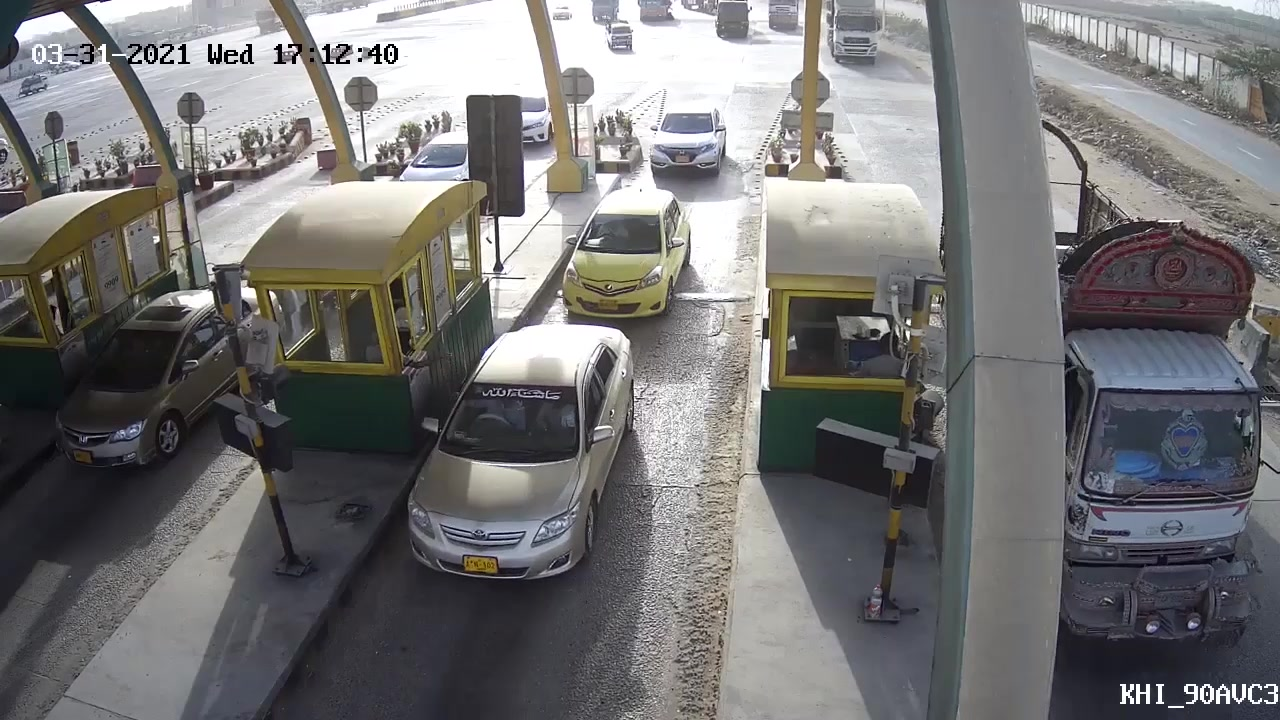F1: (401, 320, 638, 597), (560, 181, 692, 323), (647, 100, 729, 178)
